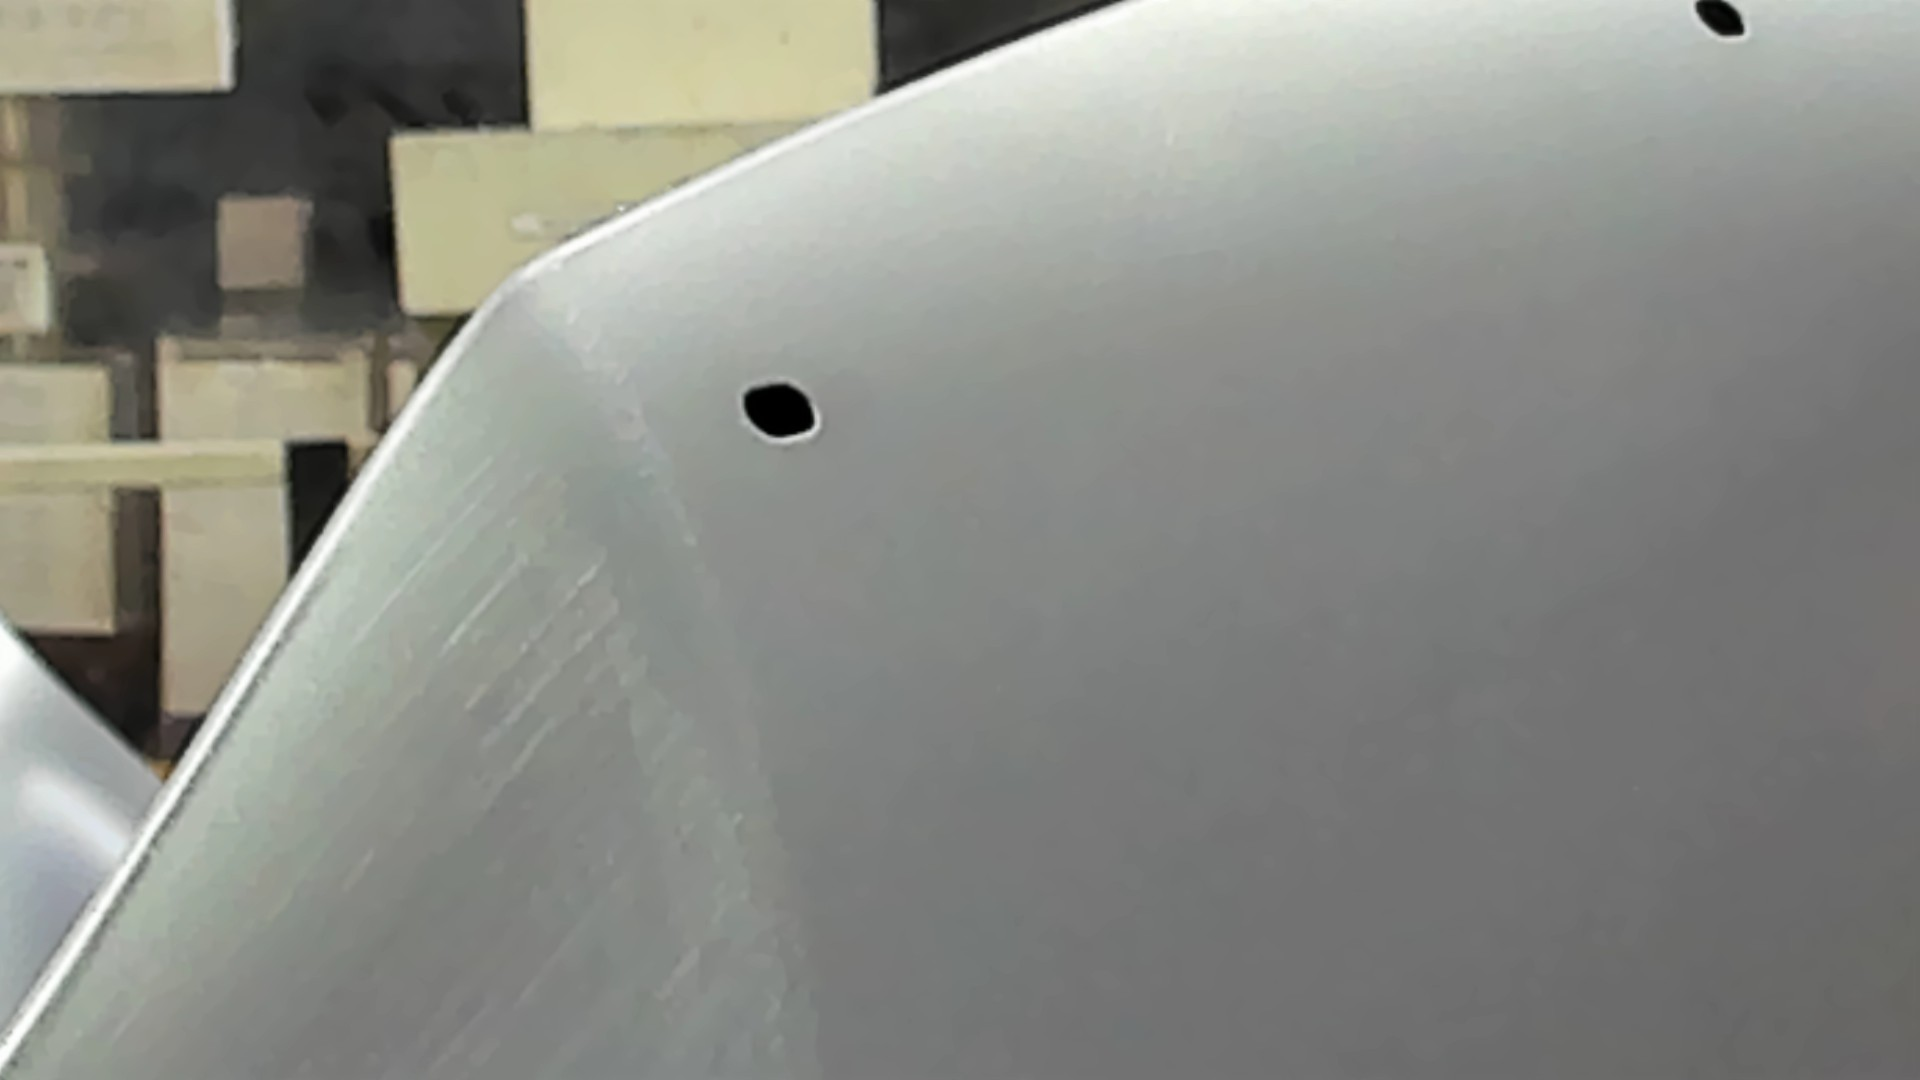amorfo: (729, 377, 827, 444), (1687, 1, 1754, 45)
capo: (943, 113, 1920, 1080)
